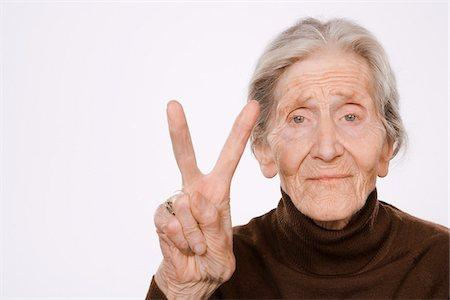peace_sign: (145, 96, 264, 291)
